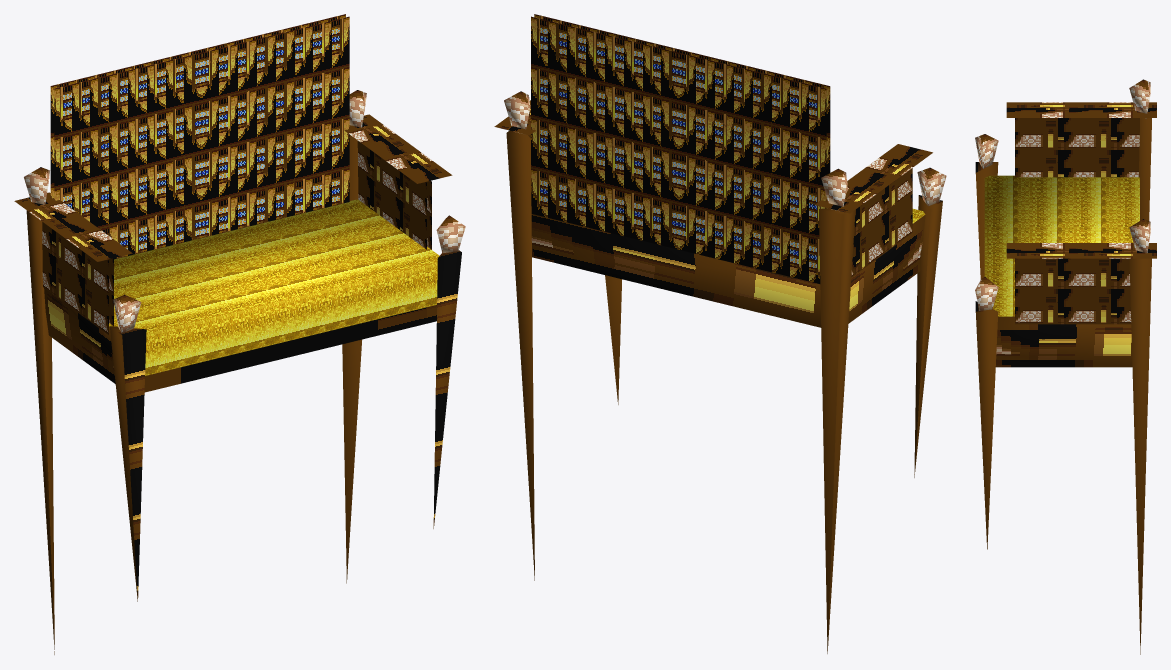
Rendered from 3726kg_ar_sof.gltf.
3 views of the same model, side by side, from view 1: azimuth 30°, elevation 25°; view 2: azimuth 150°, elevation 25°; view 3: azimuth 270°, elevation 25° (orthographic). The views are drawn at different scales.
Parts seen in each view (by area): view 1: 3726kg_ar_sof; view 2: 3726kg_ar_sof; view 3: 3726kg_ar_sof.
Boxes of the visible parts, x1,y1,x2,y2 form: 3726kg_ar_sof: (14,14,465,654); 3726kg_ar_sof: (494,14,946,653); 3726kg_ar_sof: (975,79,1156,654).
Bounding box in the file's own units: 1.94 × 2.97 × 0.9563.
3 materials, 3 textured.
